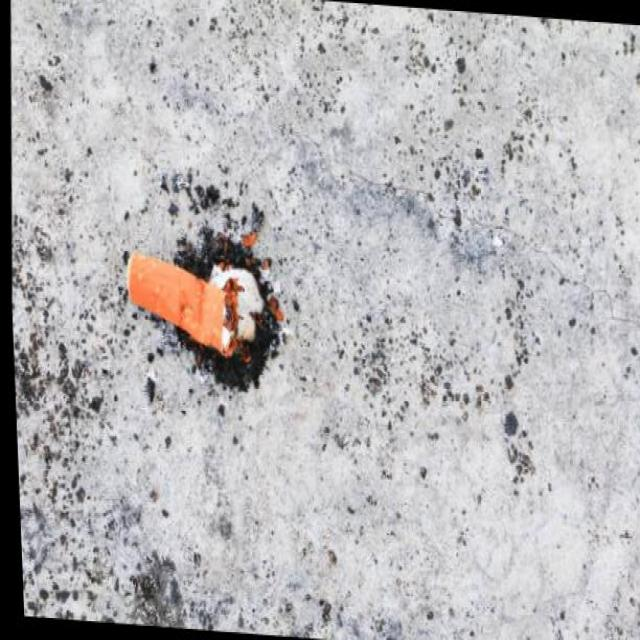cigarette: (119, 252, 263, 357)
